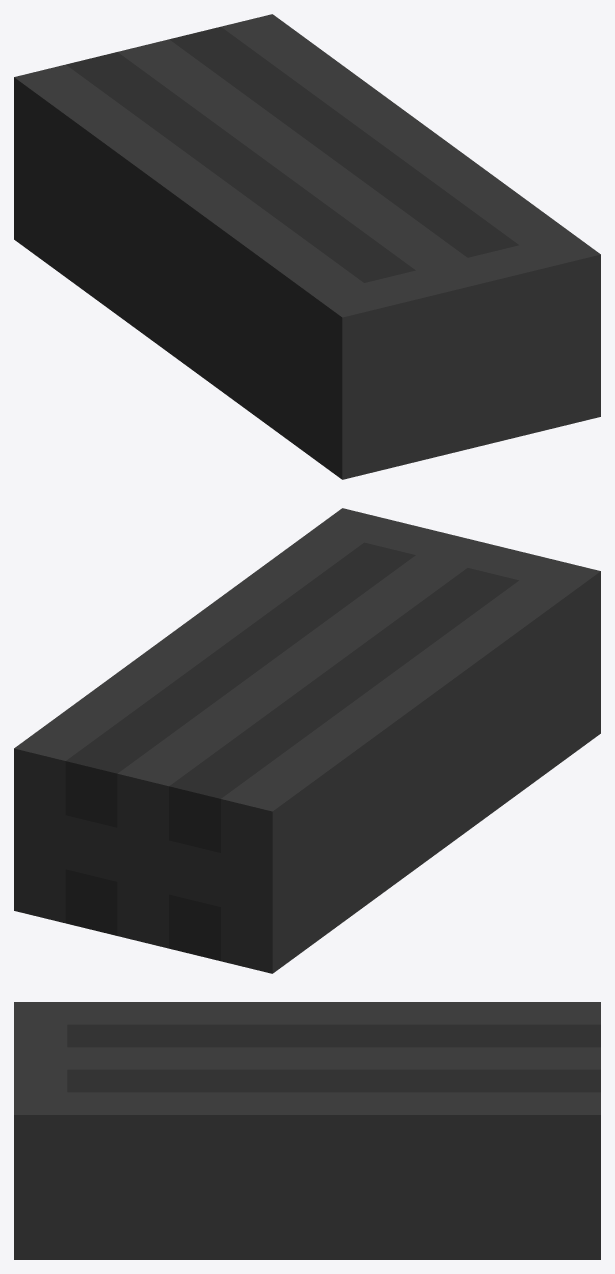
File: m4mag.vox.obj
3 views of the same model, one above another, from view 1: azimuth 30°, elevation 25°; view 2: azimuth 150°, elevation 25°; view 3: azimuth 270°, elevation 25° (orthographic). The views are drawn at different scales.
Size of the model in its own units: 0.5 by 0.3 by 1.1.
Materials: 1 (1 with a texture image).
